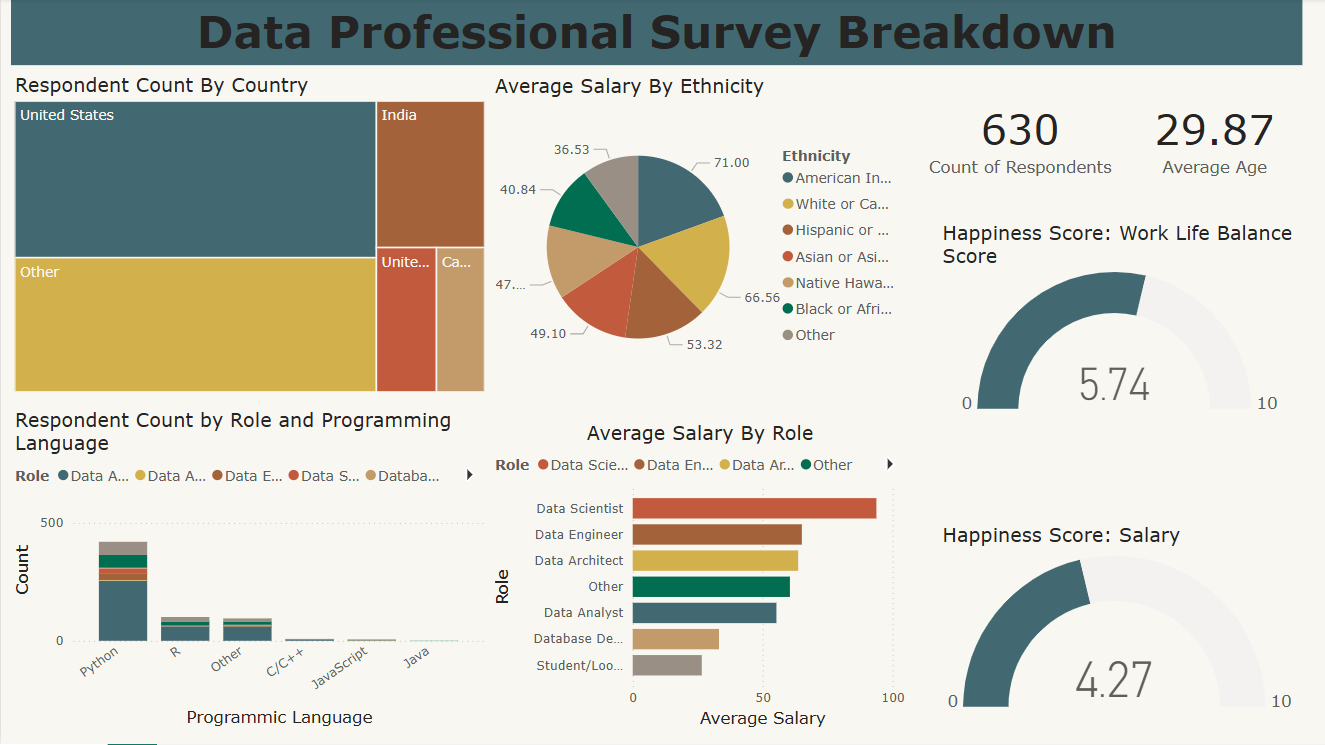

The dashboard page shown, as its layout file describes it:
{"tool":"powerbi","page":{"name":"Survey Breakdown","canvas":[1280,720],"ordinal":0},"visuals":[{"type":"textbox","box":[10.1,0,1246.5,64.9],"z":0},{"type":"card","fields":{"Values":["CountNonNull(Data Professional Survey.Unique ID)"]},"box":[887.8,83.2,192,103.9],"z":1000},{"type":"card","fields":{"Values":["Avg(Data Professional Survey.Q10 - Current Age)"]},"box":[1079.8,83.2,183.4,103.9],"z":2000},{"type":"barChart","title":"Average Salary By Role","fields":{"Y":["Avg(Data Professional Survey.Average Salary)"],"Category":["Data Professional Survey.Q1 - Which Title Best Fits your Current Role?.1"],"Series":["Data Professional Survey.Q1 - Which Title Best Fits your Current Role?.1"]},"box":[472,407.2,406,300.8],"z":3000},{"type":"columnChart","title":"Respondent Count by Role and Programming Language","fields":{"Category":["Data Professional Survey.Q5 - Favorite Programming Language.1"],"Y":["Count(Data Professional Survey.Unique ID)"],"Series":["Data Professional Survey.Q1 - Which Title Best Fits your Current Role?.1"]},"box":[8.6,396.2,463.5,311.8],"z":4000},{"type":"treemap","title":"Respondent Count By Country","fields":{"Group":["Data Professional Survey.Q11 - Which Country do you live in?.1"],"Values":["CountNonNull(Data Professional Survey.Q11 - Which Country do you live in?.1)"]},"box":[8.6,72.1,463.5,313],"z":5000},{"type":"gauge","title":"Happiness Score: Work Life Balance Score","fields":{"Y":["Avg(Data Professional Survey.Q6 - How Happy are you in your Current Position with the following? (Work/Life Balance))"],"MinValue":["Min(Data Professional Survey.Q6 - How Happy are you in your Current Position with the following? (Work/Life Balance))1"],"MaxValue":["Max(Data Professional Survey.Q6 - How Happy are you in your Current Position with the following? (Work/Life Balance))2"]},"box":[903.7,215.2,352.2,192],"z":6000},{"type":"gauge","title":"Happiness Score: Salary","fields":{"Y":["Avg(Data Professional Survey.Q6 - How Happy are you in your Current Position with the following? (Salary))"],"MinValue":["Min(Data Professional Survey.Q6 - How Happy are you in your Current Position with the following? (Salary))"],"MaxValue":["Max(Data Professional Survey.Q6 - How Happy are you in your Current Position with the following? (Salary))1"]},"box":[903.7,506.3,352.2,192],"z":7000},{"type":"pieChart","title":"Average Salary By Ethnicity","fields":{"Y":["Avg(Data Professional Survey.Average Salary)"],"Category":["Data Professional Survey.Q13 - Ethnicity.1"]},"box":[472,73.4,406,311.8],"z":8000}]}

Visuals, with their boxes in screenshot pixels (x1, y1, x2, y2), scaled from the page's 1280x720 canvas onto the 1325x745 screenshot:
textbox: (x1=10, y1=0, x2=1301, y2=67)
card - CountNonNull(Data Professional Survey.Unique ID): (x1=919, y1=86, x2=1118, y2=194)
card - Avg(Data Professional Survey.Q10 - Current Age): (x1=1118, y1=86, x2=1308, y2=194)
"Average Salary By Role" barChart: (x1=489, y1=421, x2=909, y2=733)
"Respondent Count by Role and Programming Language" columnChart: (x1=9, y1=410, x2=489, y2=733)
"Respondent Count By Country" treemap: (x1=9, y1=75, x2=489, y2=398)
"Happiness Score: Work Life Balance Score" gauge: (x1=935, y1=223, x2=1300, y2=421)
"Happiness Score: Salary" gauge: (x1=935, y1=524, x2=1300, y2=723)
"Average Salary By Ethnicity" pieChart: (x1=489, y1=76, x2=909, y2=399)
